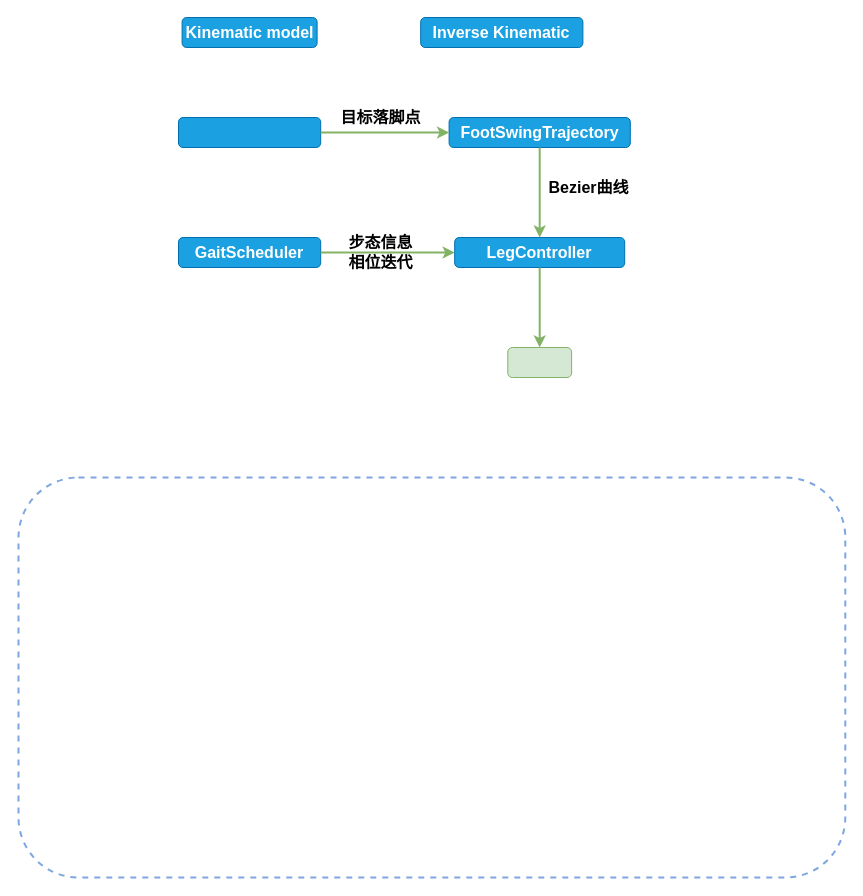
Some shapes in this 863 by 896 pixel diagram are drawn without their labels. Each missing label, with the centre of its shape:
"Legs" belongs at point 539,362.
"PlanningPosition" belongs at point 249,132.
